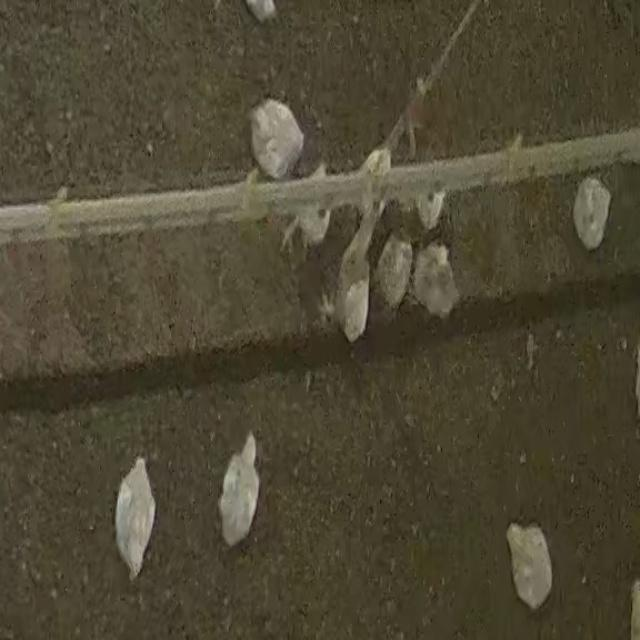chicken: (318, 214, 372, 346), (218, 427, 264, 550), (112, 456, 156, 582), (501, 518, 558, 612), (247, 94, 306, 178), (416, 235, 468, 314), (573, 175, 614, 252)
